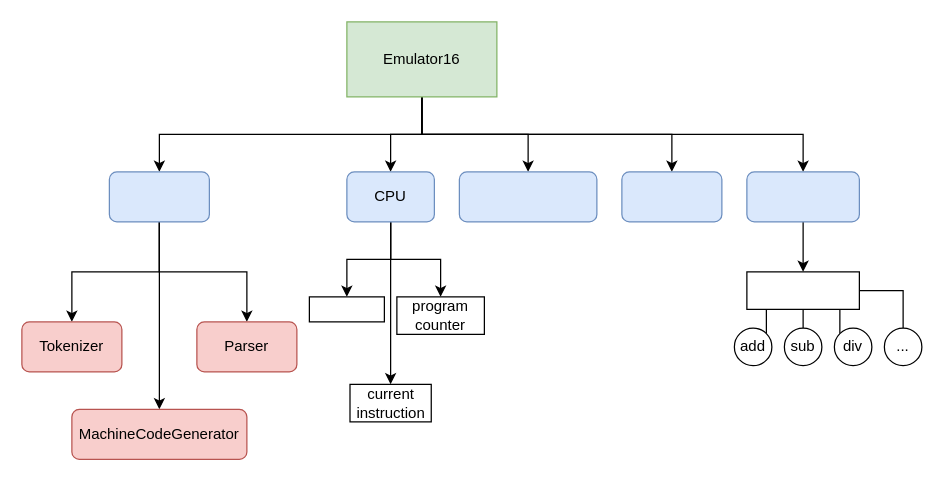
Image size: 944x481. Some labels were removed from this diagram. Each missing label, with the box of its shape:
Compiler: (108, 171, 209, 222)
InstructionMemory: (458, 171, 597, 222)
Memory: (621, 171, 722, 222)
Operators: (746, 271, 859, 309)
OperatorTable: (746, 171, 859, 222)
registers: (308, 296, 384, 322)
